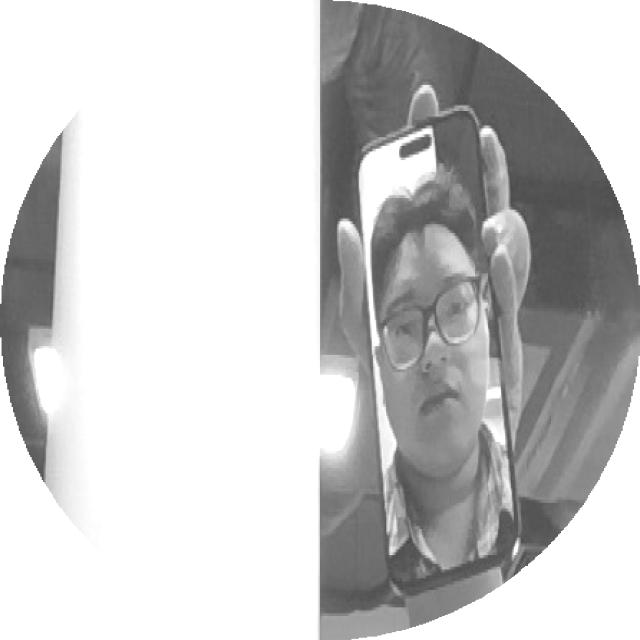fake: (346, 103, 535, 602), (344, 101, 525, 610)
